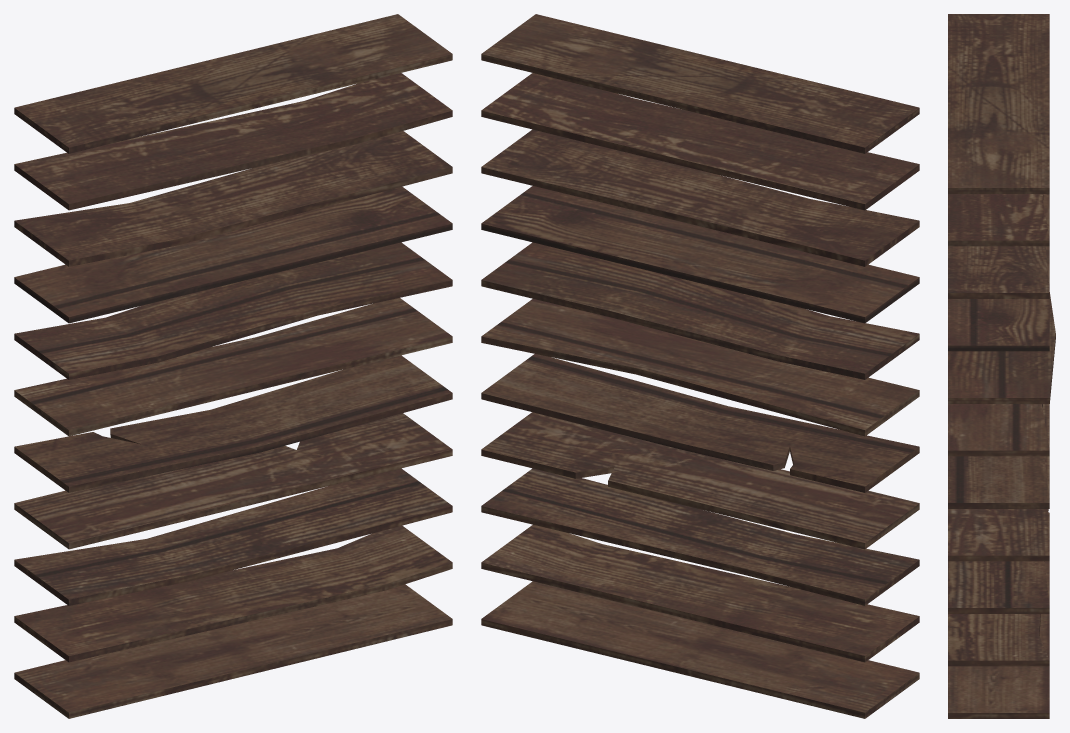
Rendered from Bibliothek_Bookshelf_Logs.fbx.
3 views of the same model, side by side, from view 1: azimuth 30°, elevation 25°; view 2: azimuth 150°, elevation 25°; view 3: azimuth 270°, elevation 25° (orthographic). The views are drawn at different scales.
Visible parts, largest first — view 1: BookshelfLogs; view 2: BookshelfLogs; view 3: BookshelfLogs.
Boxes of the visible parts, x1,y1,x2,y2 form: BookshelfLogs: [14, 14, 452, 718]; BookshelfLogs: [481, 14, 919, 718]; BookshelfLogs: [948, 14, 1055, 718].
Size of the model in its own units: 320 by 455 by 83.7.
